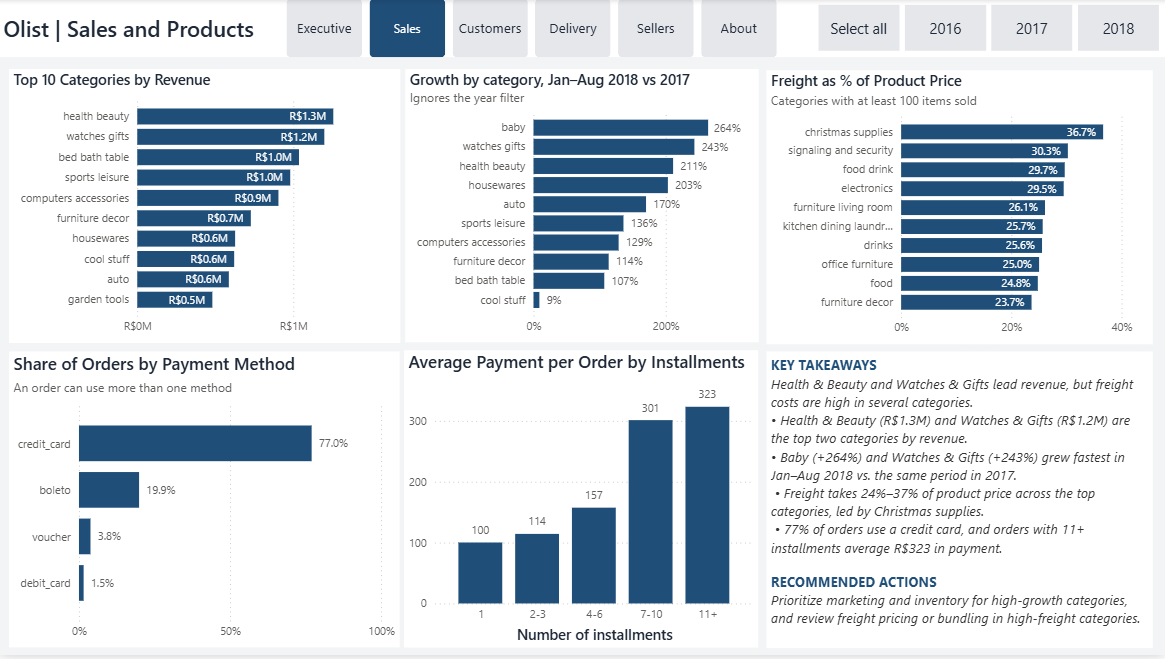

The page's visual inventory and layout, read from the dashboard file:
{"tool":"powerbi","page":{"name":"Sales","canvas":[1280,720],"ordinal":1},"visuals":[{"type":"shape","box":[0,0,1280.3,63.8],"z":0},{"type":"textbox","box":[0,10.9,294,99.6],"z":1000},{"type":"advancedSlicerVisual","fields":{"Values":["gold dim_date.year"]},"box":[892.6,0,387.4,63.8],"z":2000},{"type":"pageNavigator","box":[315.6,0,541.1,64.4],"z":3000},{"type":"clusteredBarChart","title":"Top 10 Categories by Revenue","fields":{"Category":["gold dim_product.Category Label"],"Y":["_Measures.Product Revenue"]},"box":[11,76.8,429.5,300.5],"z":4000},{"type":"clusteredBarChart","title":"Growth, Jan-Aug 2018 vs 2017 (Top 10)","fields":{"Y":["_Measures.Growth Jan-Aug %"],"Category":["gold dim_product.Category Label"]},"box":[445.8,77.5,388.3,300],"z":5000},{"type":"clusteredBarChart","title":"Freight as % of Product Price","fields":{"Y":["_Measures.Freight Ratio (100+ Items)"],"Category":["gold dim_product.Category Label"]},"box":[843,78,424,300.5],"z":6000},{"type":"clusteredBarChart","title":"Share of Orders by Payment Method","fields":{"Category":["gold fact_payments.payment_type"],"Y":["_Measures.Orders Using Method %"]},"box":[10.3,387.5,428.7,324.4],"z":7000},{"type":"clusteredColumnChart","title":"Average Order Payment by Installments","fields":{"Category":["gold fact_orders.Installments Bucket"],"Y":["_Measures.Avg Payment per Order"]},"box":[444.9,386,389,326.8],"z":8000},{"type":"textbox","box":[842.7,387.5,424.3,325.6],"z":9000}]}

Visuals, with their boxes in screenshot pixels (x1, y1, x2, y2), scaled from the page's 1280x720 canvas onto the 1165x659 screenshot:
shape: 0,0,1164,58
textbox: 0,10,268,101
advancedSlicerVisual - gold dim_date.year: 812,0,1164,58
pageNavigator: 287,0,780,59
"Top 10 Categories by Revenue" clusteredBarChart: 10,70,401,345
"Growth, Jan-Aug 2018 vs 2017 (Top 10)" clusteredBarChart: 406,71,759,346
"Freight as % of Product Price" clusteredBarChart: 767,71,1153,346
"Share of Orders by Payment Method" clusteredBarChart: 9,355,400,652
"Average Order Payment by Installments" clusteredColumnChart: 405,353,759,652
textbox: 767,355,1153,653
